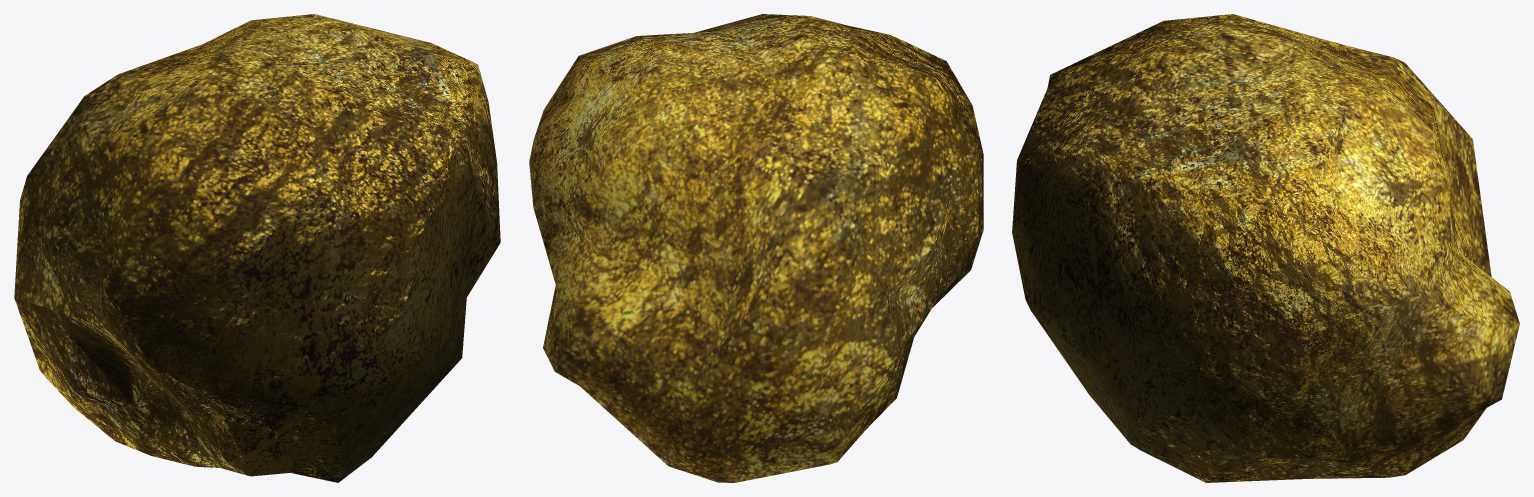
The model's file is goldOre.dae.
3 renders of one model, left to right at view 1: azimuth 30°, elevation 25°; view 2: azimuth 150°, elevation 25°; view 3: azimuth 270°, elevation 25°, orthographic. The views are drawn at different scales.
Parts seen in each view (by area): view 1: GoldNugget3; view 2: GoldNugget3; view 3: GoldNugget3.
Boxes of the visible parts, left/top/right/bottom form: GoldNugget3: left=14, top=14, right=500, bottom=482; GoldNugget3: left=529, top=14, right=983, bottom=482; GoldNugget3: left=1012, top=14, right=1519, bottom=482.
Size of the model in its own units: 2.1 by 2.17 by 2.01.
Materials: 1 (1 with a texture image).
